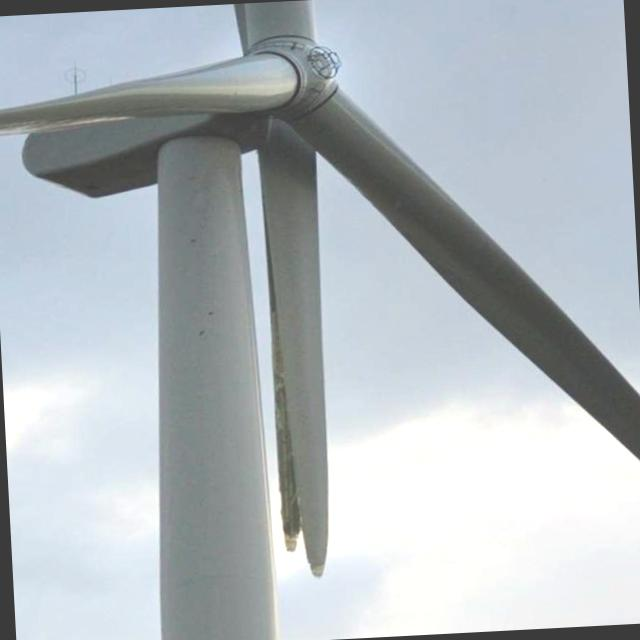crack: (232, 0, 366, 578)
